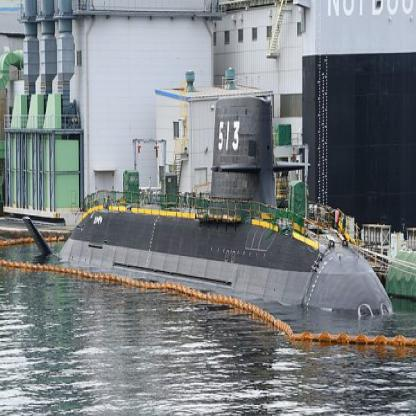Submarine: (23, 94, 393, 318)
